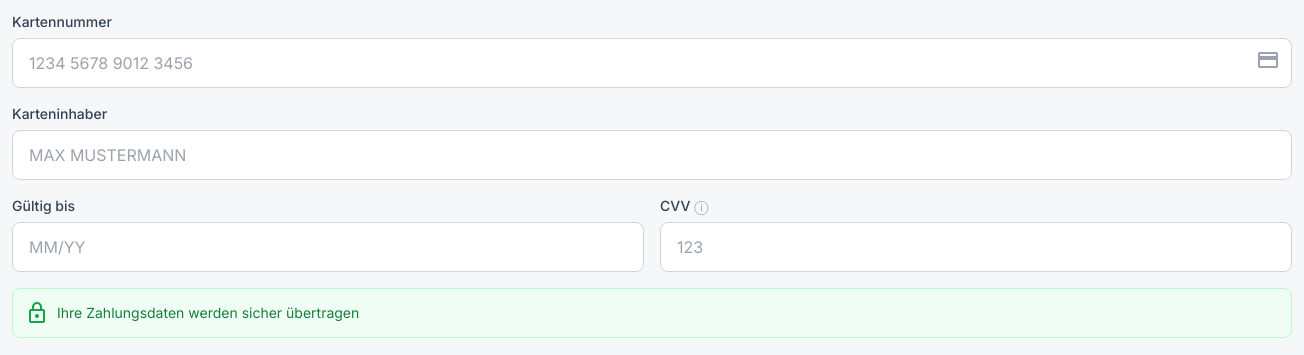
Test: CreditCardForm › limits CVV to 3 digits for non-Amex
In the field with placeholder "123": (976, 247) x1=660 y1=222 x2=1292 y2=272, type "12345"
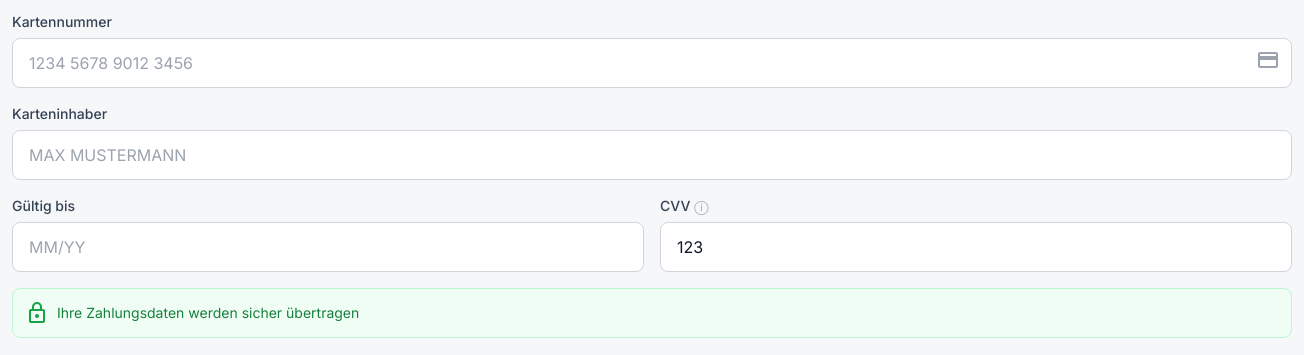
Check: the field with placeholder "123" holds "123", box x1=660 y1=222 x2=1292 y2=272
